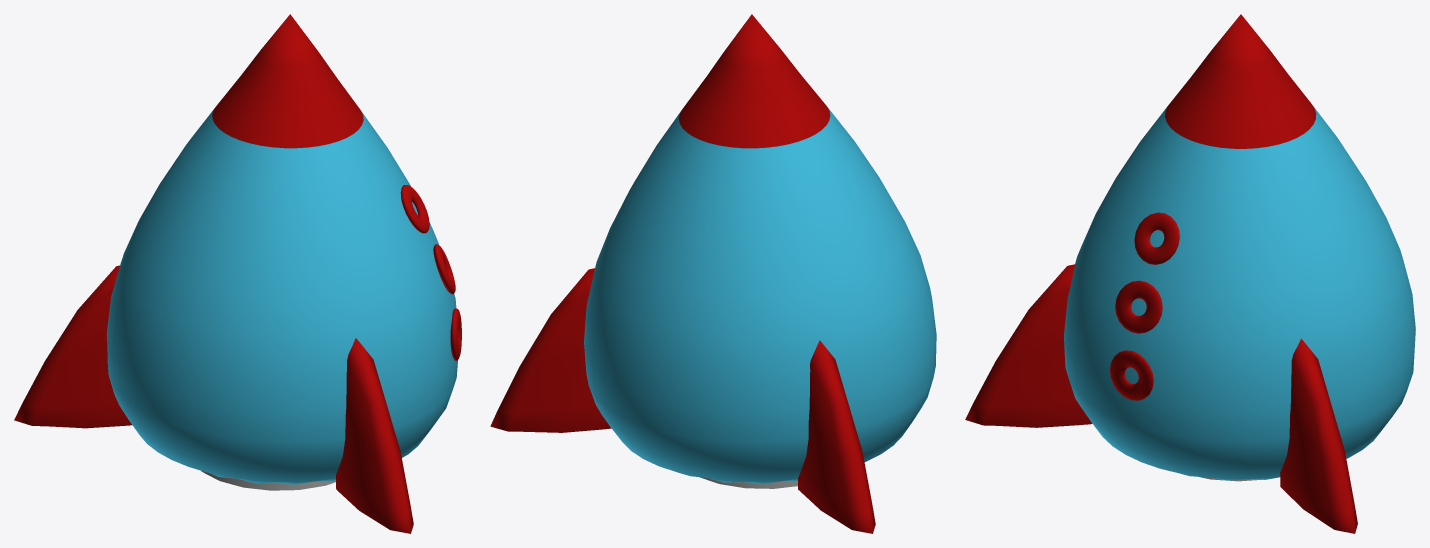
Rendered from RocketPowerUp.fbx.
The picture shows the model from 3 angles, left to right: view 1: azimuth 30°, elevation 25°; view 2: azimuth 150°, elevation 25°; view 3: azimuth 270°, elevation 25°; orthographic projection.
Visible parts, largest first — view 1: polySurface10; view 2: polySurface10; view 3: polySurface10.
Part boxes in pixels (left/top/right/bottom): polySurface10: left=14, top=14, right=461, bottom=533; polySurface10: left=490, top=14, right=936, bottom=533; polySurface10: left=965, top=14, right=1415, bottom=533.
Bounding box in the file's own units: 1.68 × 1.74 × 1.63.
